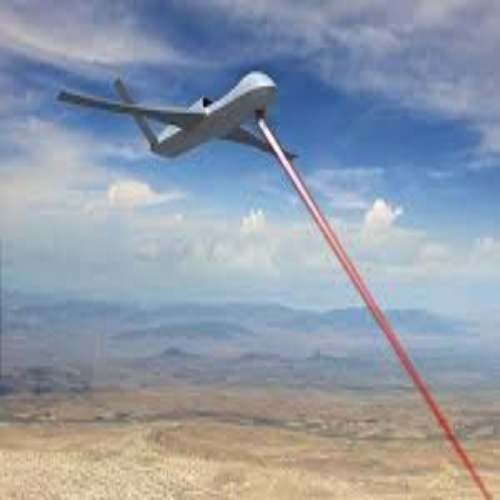uav423: (55, 68, 297, 161)
